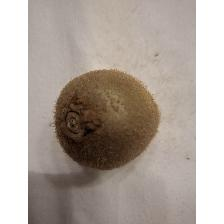Kiwi: (49, 65, 165, 173)
